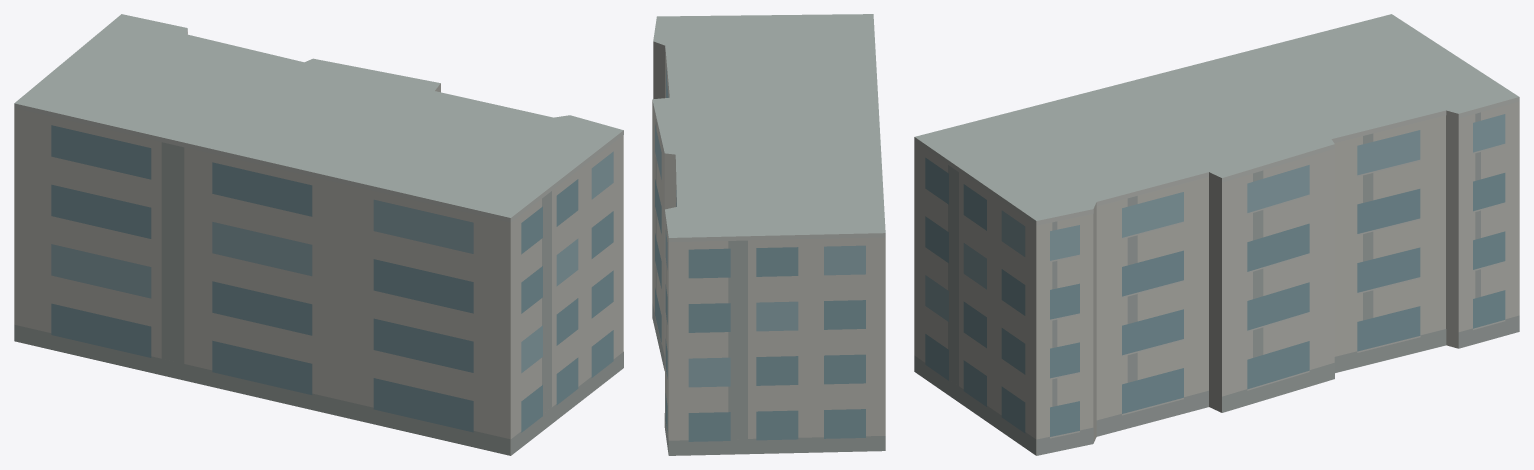
The model's file is survey-upis-32962112.glb.
3 renders of one model, left to right at view 1: azimuth 30°, elevation 25°; view 2: azimuth 150°, elevation 25°; view 3: azimuth 270°, elevation 25°, orthographic. The views are drawn at different scales.
Visible parts, largest first — view 1: survey-upis-32962112.tmp; view 2: survey-upis-32962112.tmp; view 3: survey-upis-32962112.tmp.
Part boxes in pixels (<box>): survey-upis-32962112.tmp: <box>14,14,623,455</box>; survey-upis-32962112.tmp: <box>652,14,885,455</box>; survey-upis-32962112.tmp: <box>914,14,1519,455</box>.
Size of the model in its own units: 23.07 by 12.2 by 28.49.
